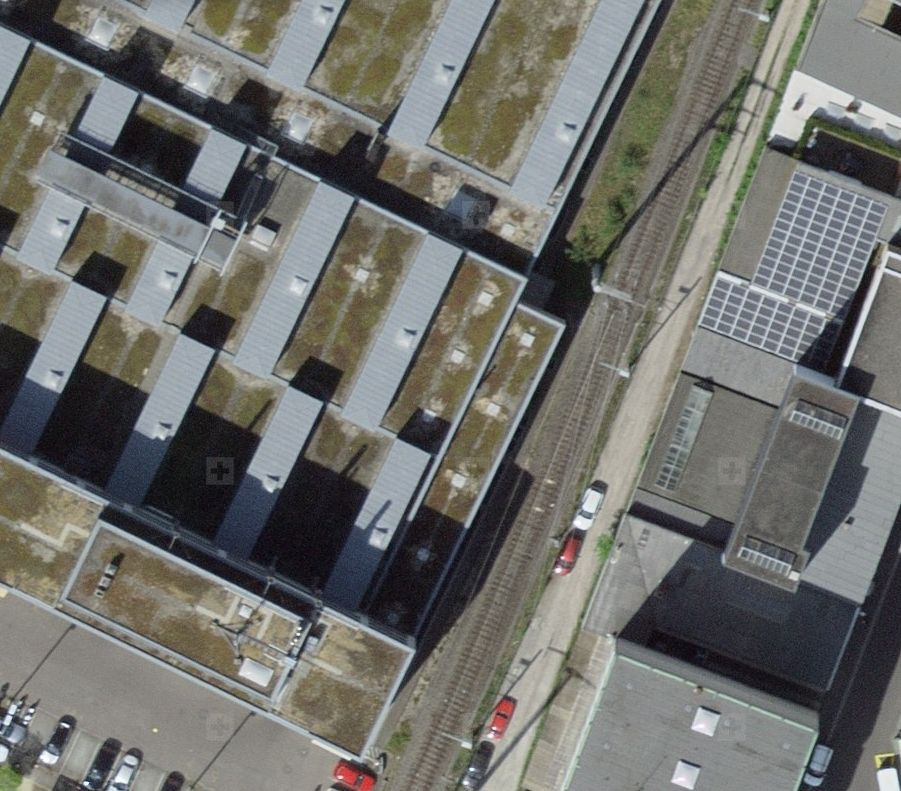solar: (694, 171, 894, 377)
